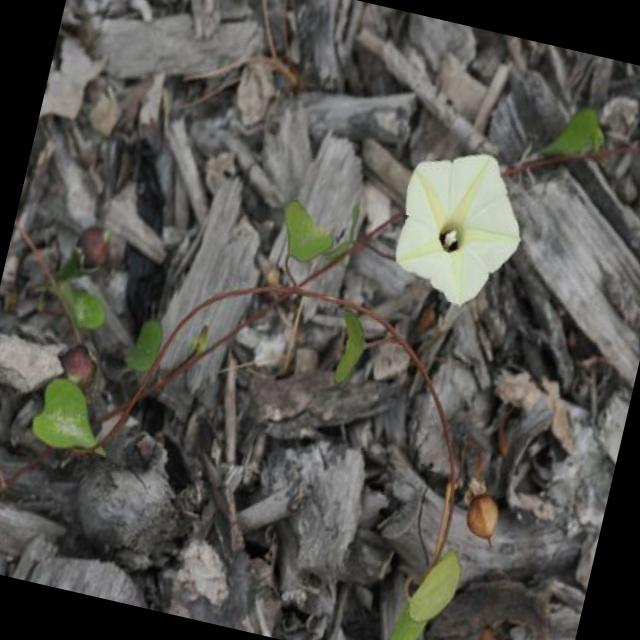ipomoea: (378, 132, 542, 324)
